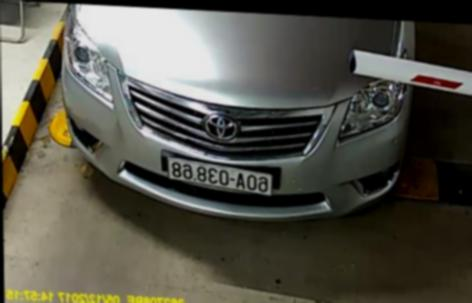License_Plate: (159, 152, 276, 197)
